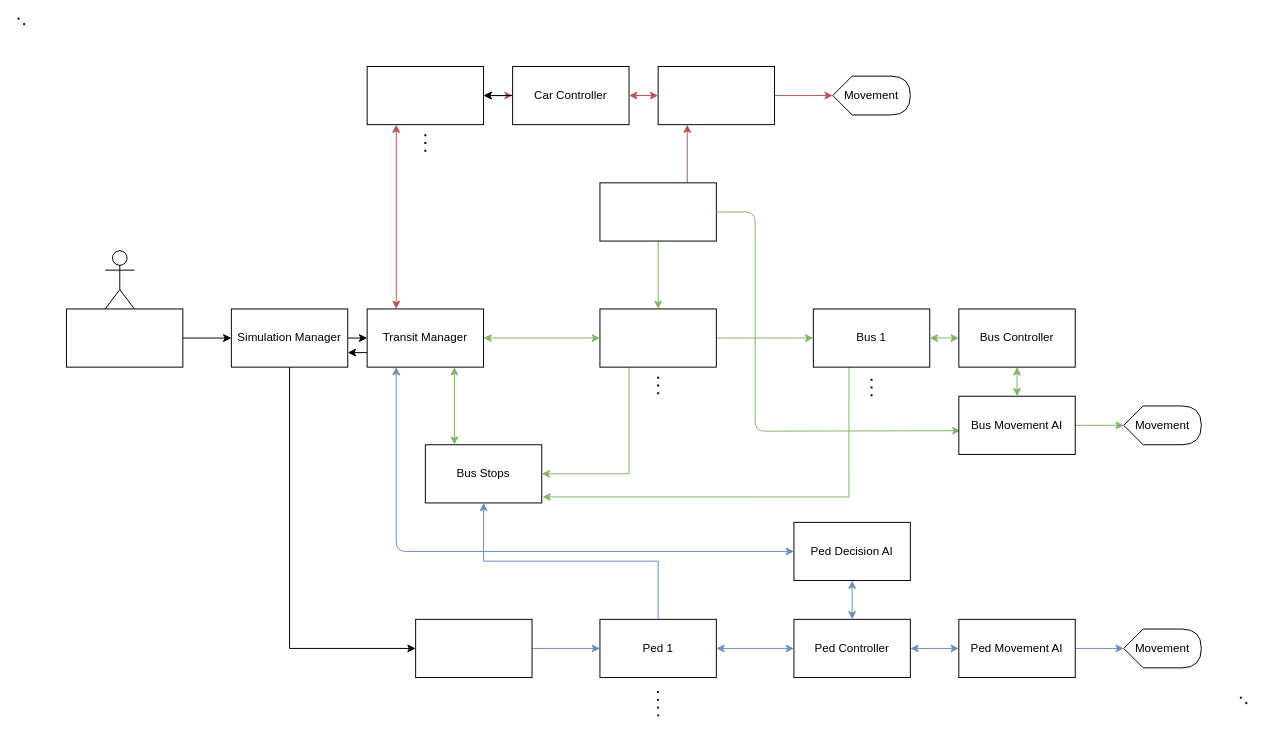
Image size: 1268x734. Some labels were removed from this diagram. The shapes that lost their labels are listed below. From the top down, each one's centre as x and y in pixels, then its label:
At point 425,95: "Car".
At point 716,95: "Car Movement AI".
At point 657,211: "Roads".
At point 119,279: "Actor".
At point 124,337: "User BP/code".
At point 657,337: "Bus Line 1".
At point 473,648: "Ped Manager".
